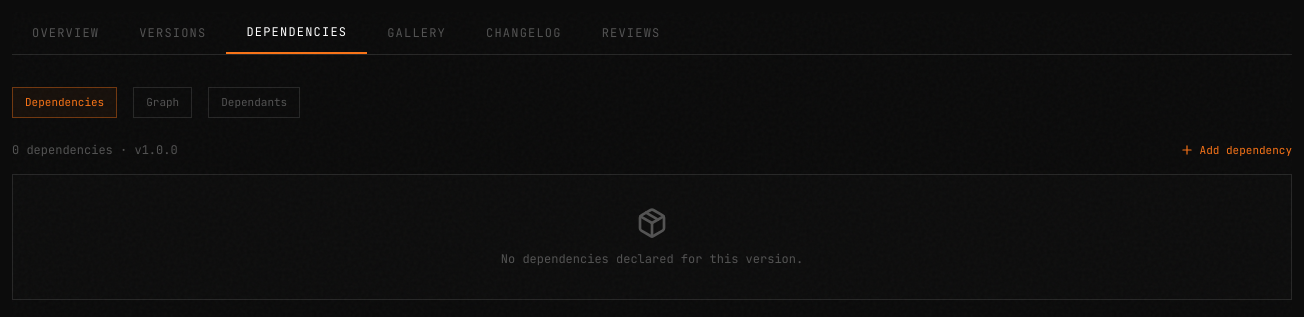
Test case: PluginContent › switches to graph view with empty graph
Click the button "Graph" at (163, 102), box [133,87,192,118]
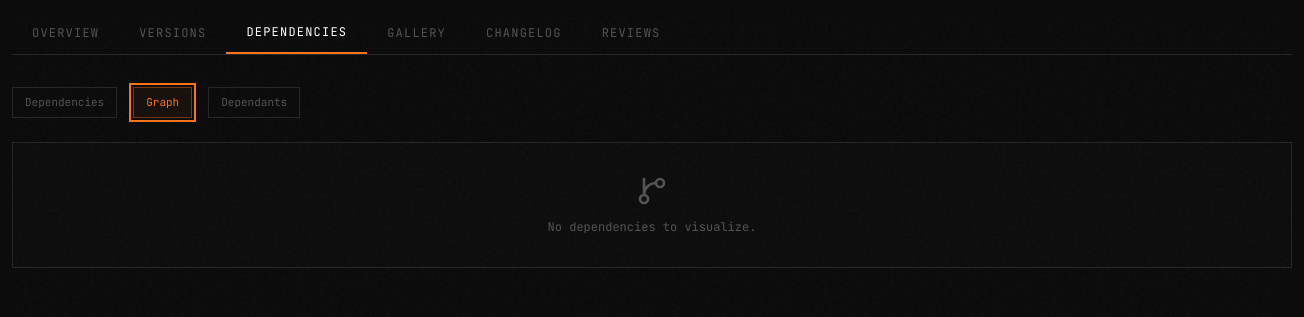
Now the text "No dependencies to visualize." is shown, box [548,218,756,234]
